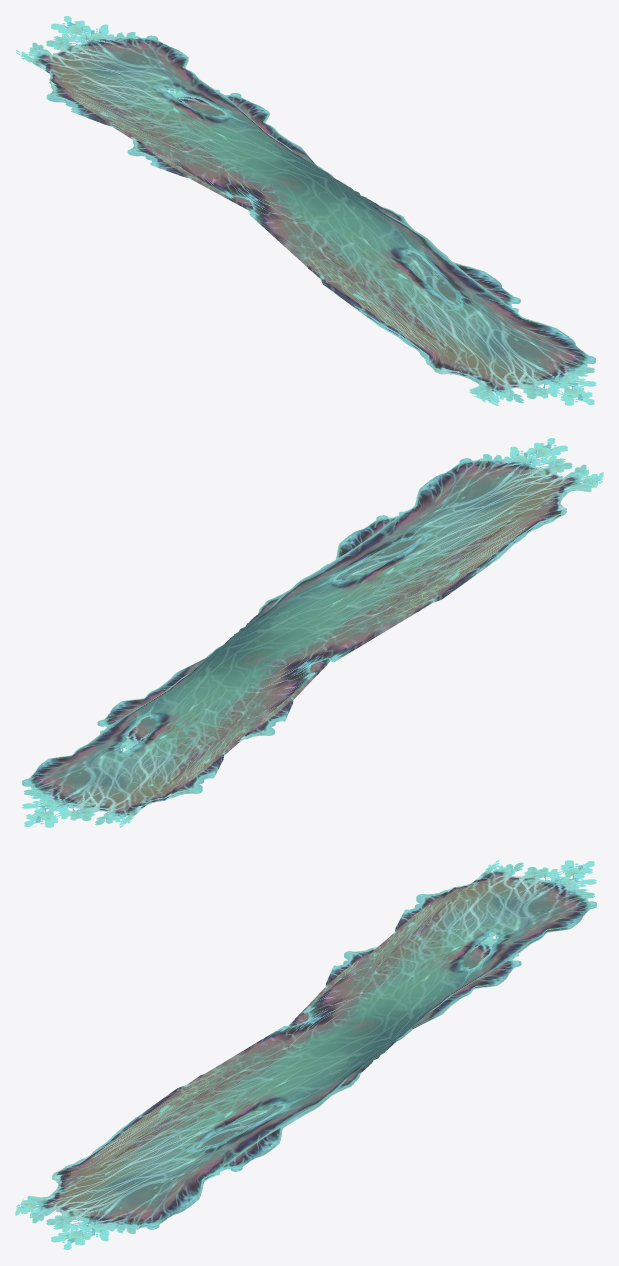
Rendered from bridge_jungle.FBX.
The picture shows the model from 3 angles, top to bottom: view 1: azimuth 30°, elevation 25°; view 2: azimuth 150°, elevation 25°; view 3: azimuth 330°, elevation 25°; orthographic projection.
Parts seen in each view (by area): view 1: bridge_jungle_02, bridge_jungle_01; view 2: bridge_jungle_02, bridge_jungle_01; view 3: bridge_jungle_02, bridge_jungle_01.
Boxes of the visible parts, x1,y1,x2,y2 form: bridge_jungle_02: (16,16,596,405); bridge_jungle_01: (127,87,520,336); bridge_jungle_02: (22,438,603,827); bridge_jungle_01: (97,511,512,753); bridge_jungle_02: (15,860,596,1249); bridge_jungle_01: (135,932,521,1175).
Bounding box in the file's own units: 11.2 × 0.1511 × 64.16.
